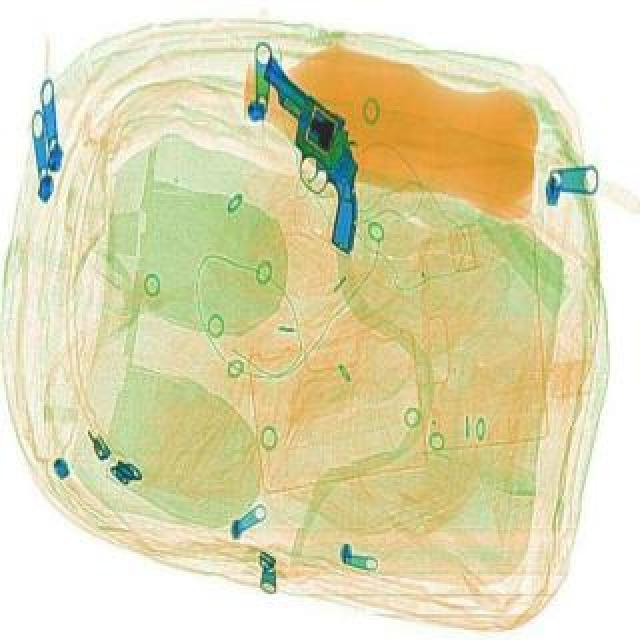gun: (236, 46, 404, 262)
